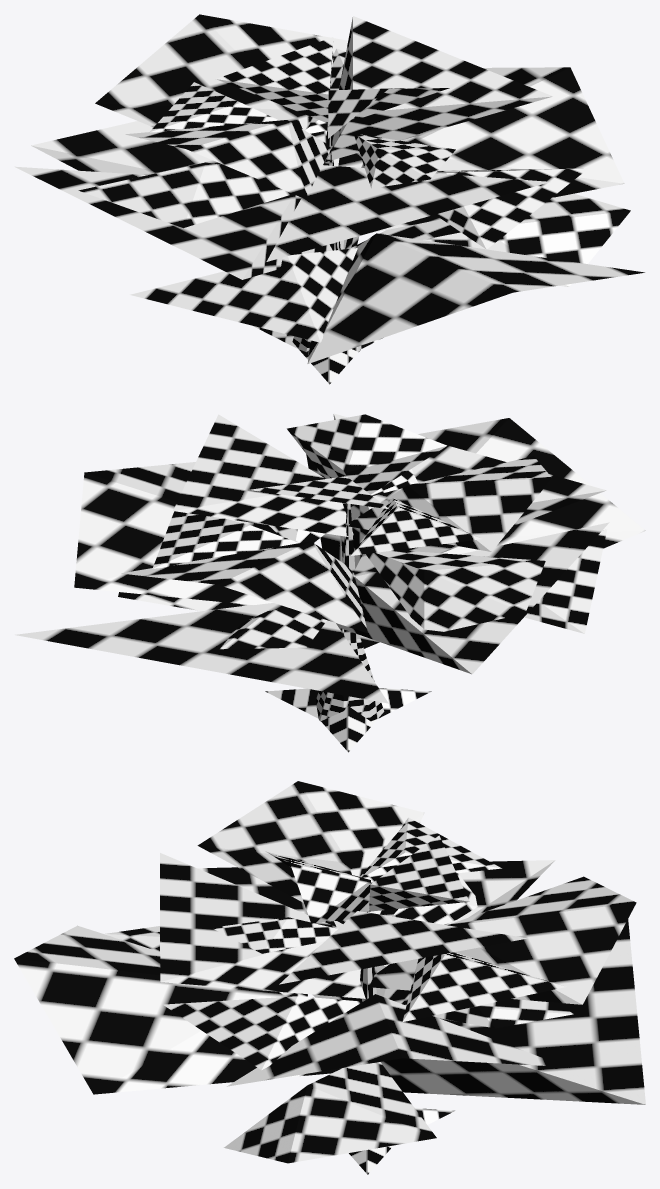
Rendered from naflbu11.dae.
The picture shows the model from 3 angles, top to bottom: view 1: azimuth 30°, elevation 25°; view 2: azimuth 150°, elevation 25°; view 3: azimuth 270°, elevation 25°; orthographic projection. The views are drawn at different scales.
Parts seen in each view (by area): view 1: crown; view 2: crown; view 3: crown.
Boxes of the visible parts, left/top/right/bottom form: crown: left=14, top=14, right=644, bottom=384; crown: left=15, top=413, right=645, bottom=752; crown: left=14, top=781, right=645, bottom=1174.
Bounding box in the file's own units: 1.48 × 1.65 × 0.8043.
Materials: 1 (1 with a texture image).
